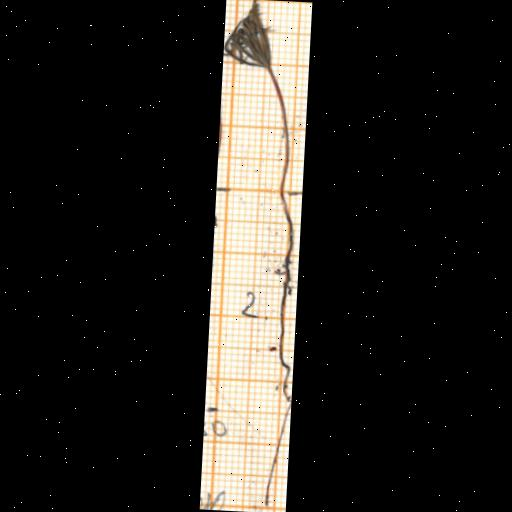flowerPinus: (224, 0, 272, 69)
rootPinus: (265, 185, 293, 506)
stemPinus: (269, 67, 291, 198)
